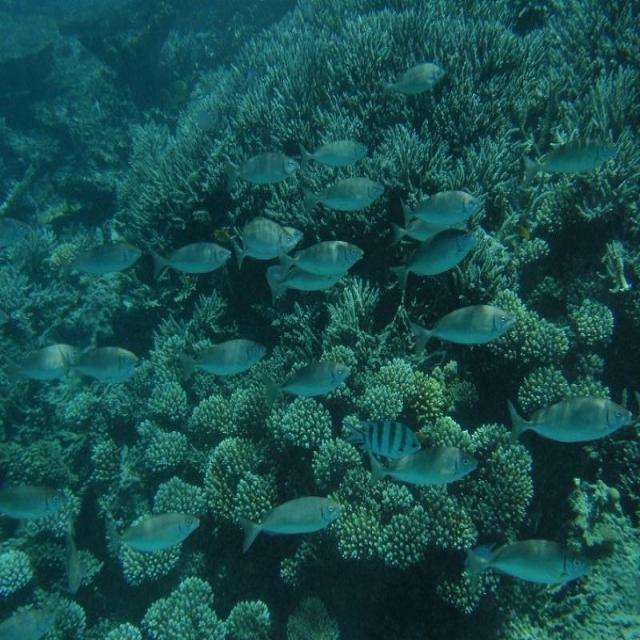Sokar Baligi: (498, 384, 640, 460), (233, 482, 353, 566), (458, 535, 602, 593), (147, 232, 233, 296)
